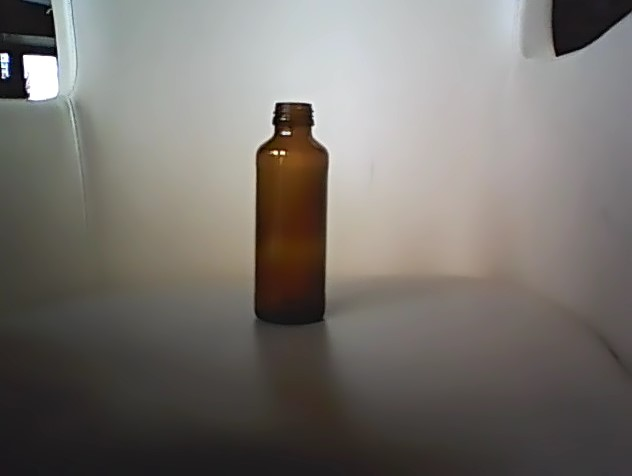Glass: (249, 92, 333, 329)
